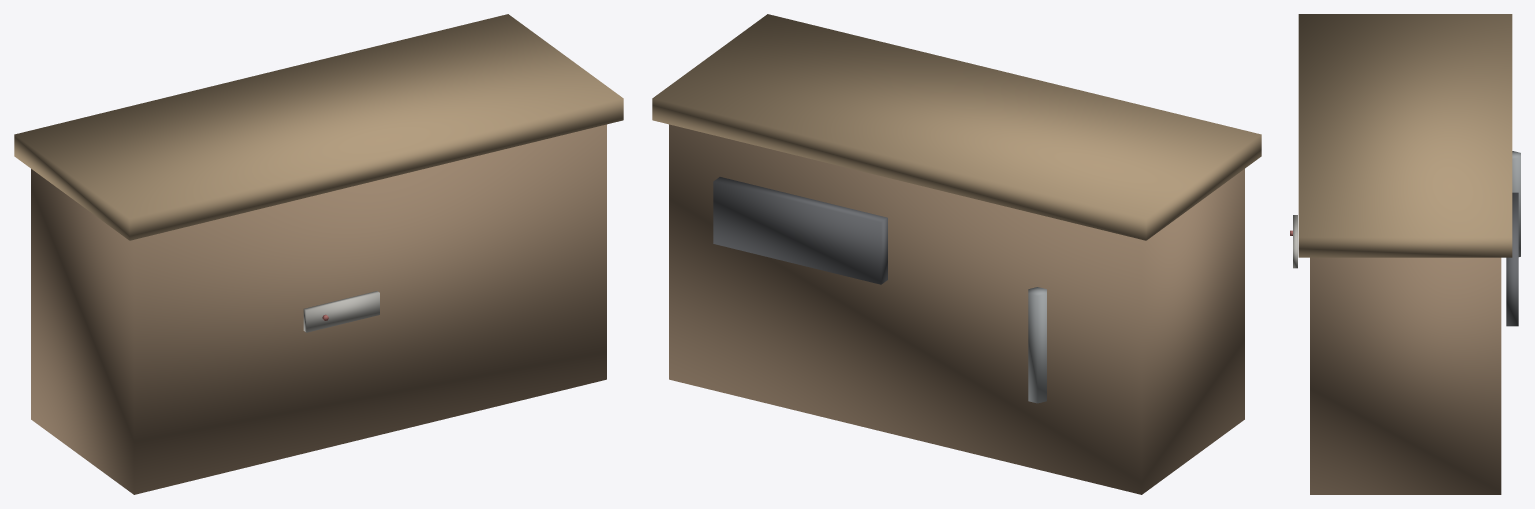
The model's file is bagging_stand__service.glb.
3 renders of one model, left to right at view 1: azimuth 30°, elevation 25°; view 2: azimuth 150°, elevation 25°; view 3: azimuth 270°, elevation 25°, orthographic. The views are drawn at different scales.
Visible parts, largest first — view 1: world; view 2: world; view 3: world.
Part boxes in pixels (x1=…): world: x1=14, y1=14, x2=623, y2=494; world: x1=652, y1=14, x2=1261, y2=494; world: x1=1290, y1=14, x2=1520, y2=494.
Bounding box in the file's own units: 1.88 × 1.03 × 0.8213.
